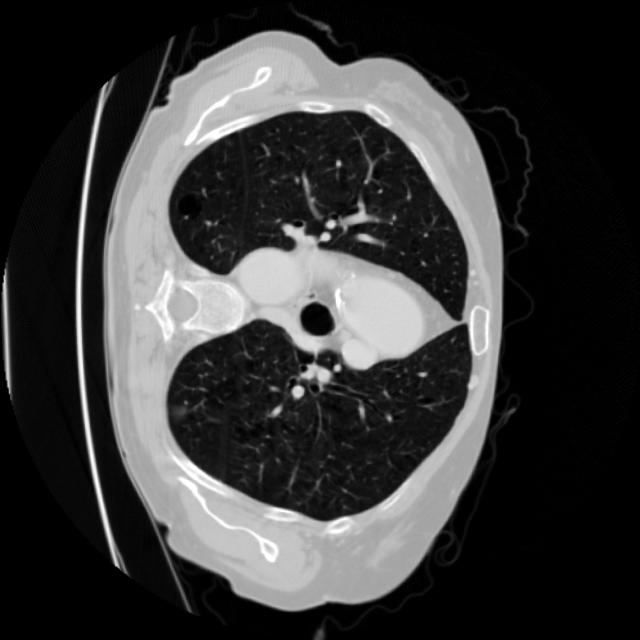nodule: (162, 396, 198, 432)
